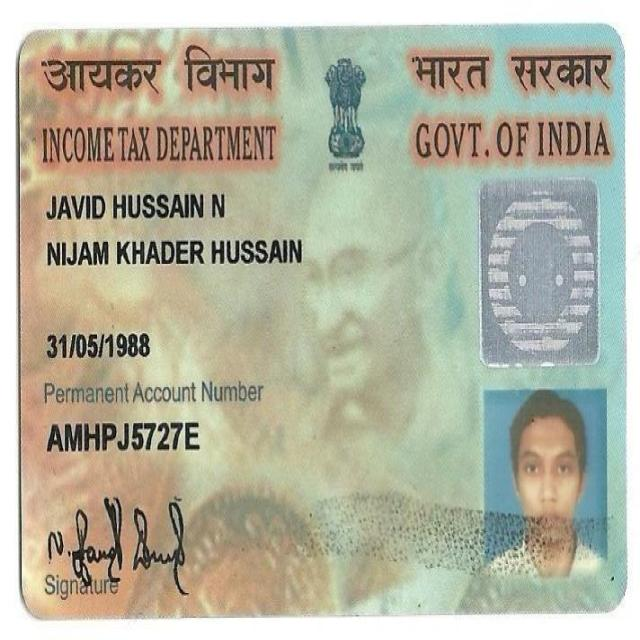pan_card: (16, 29, 629, 616)
